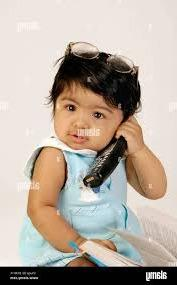Human: (33, 40, 165, 270)
